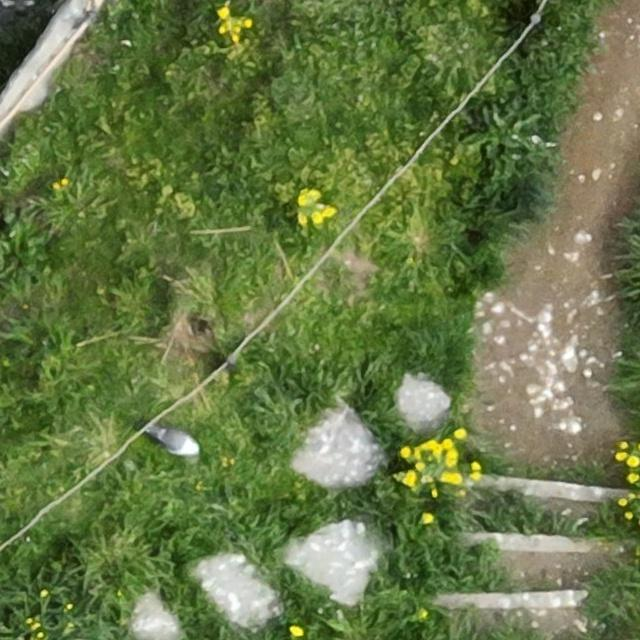umineko: (156, 430, 197, 454)
